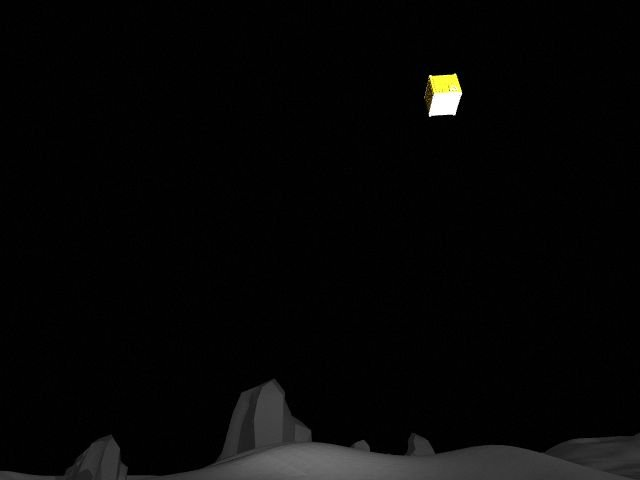cubesat: (422, 67, 465, 120)
